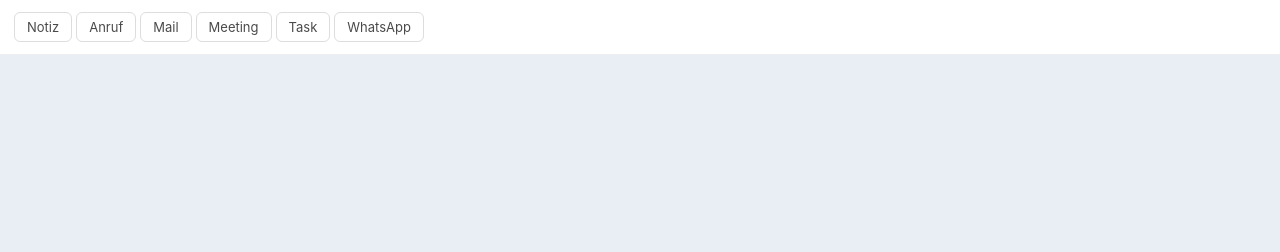
EventComposer › selecting a different type swaps the form
Click the button "Notiz": (43, 27) left=14, top=12, right=72, bottom=42
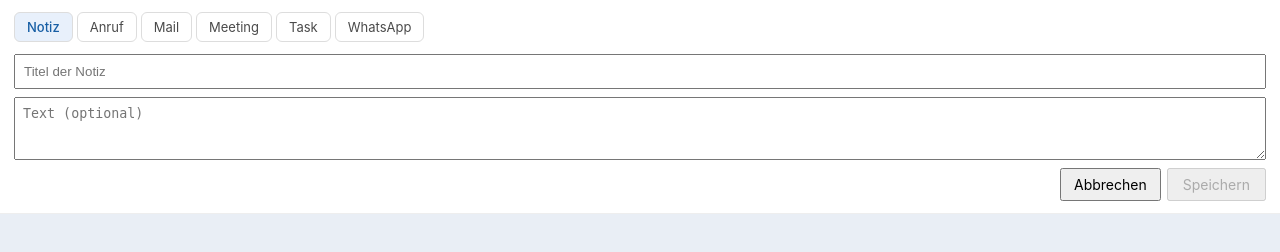
Expected: the field with placeholder "Titel der Notiz" is shown, left=14, top=54, right=1266, bottom=89
Click the button "Task": (303, 27) left=276, top=12, right=331, bottom=42
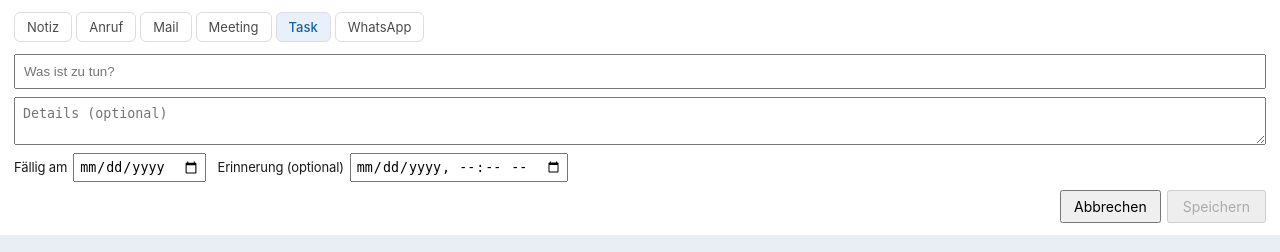
Expected: the field with placeholder "Titel der Notiz" is not shown
Expected: the field with placeholder "Was ist zu tun?" is shown, left=14, top=54, right=1266, bottom=89
